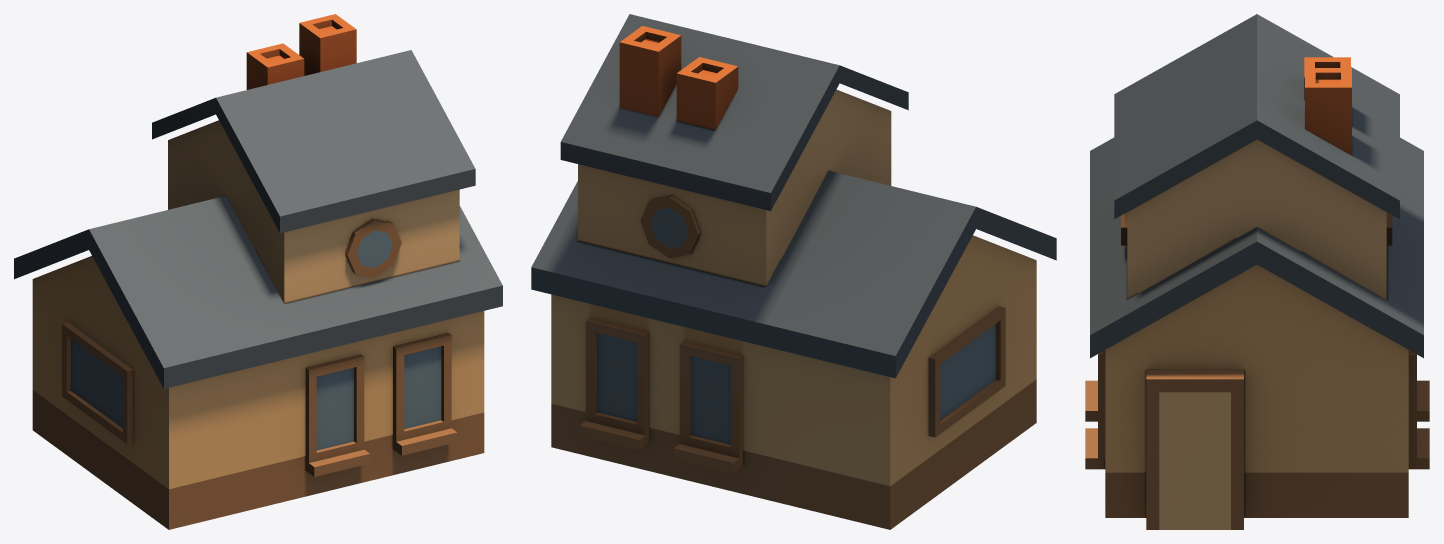
Rendered from house-model.glb.
3 renders of one model, left to right at view 1: azimuth 30°, elevation 25°; view 2: azimuth 150°, elevation 25°; view 3: azimuth 270°, elevation 25°, orthographic. The views are drawn at different scales.
Visible parts, largest first — view 1: house; view 2: house; view 3: house.
Boxes of the visible parts, left/top/right/bottom form: house: left=14, top=14, right=502, bottom=529; house: left=531, top=14, right=1056, bottom=529; house: left=1085, top=14, right=1429, bottom=529.
Size of the model in its own units: 1.43 by 1.46 by 1.11.
1 material, 1 textured.
